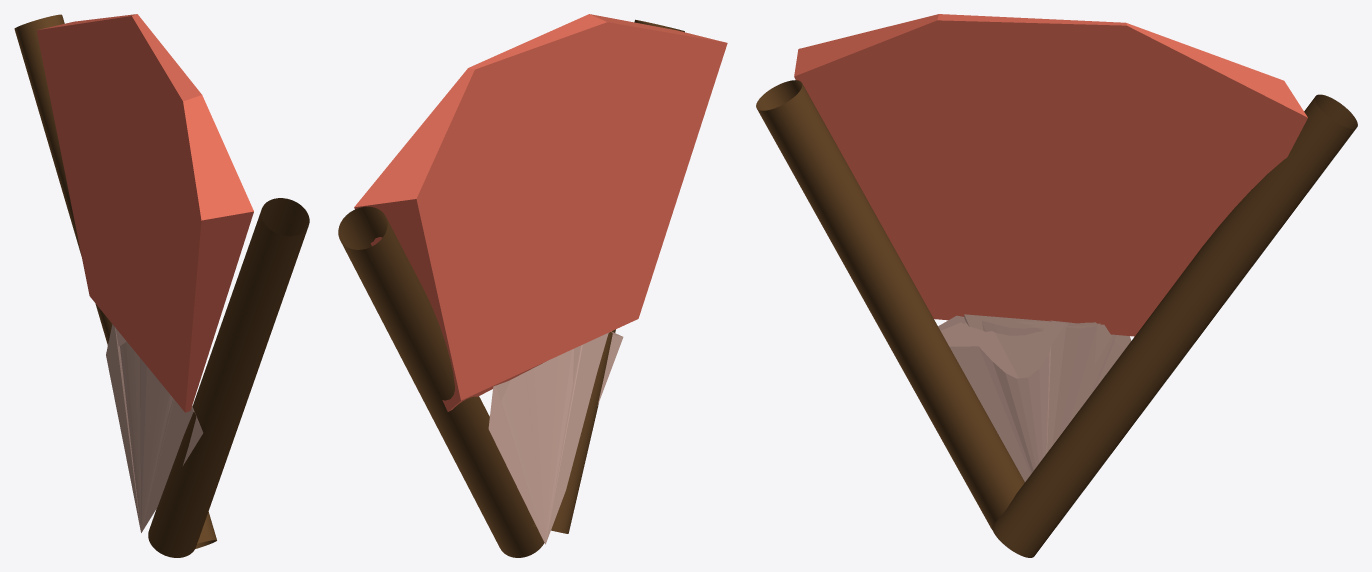
The model's file is handfan.fbx.
3 renders of one model, left to right at view 1: azimuth 30°, elevation 25°; view 2: azimuth 150°, elevation 25°; view 3: azimuth 270°, elevation 25°, orthographic. The views are drawn at different scales.
Visible parts, largest first — view 1: Cube, SurfCylinder, Cone, SurfCylinder.001; view 2: Cube, SurfCylinder.001, Cone, SurfCylinder; view 3: Cube, SurfCylinder.001, SurfCylinder, Cone.
Part boxes in pixels (box(x1,y1,x2,y2)): Cube: box(36, 14, 253, 412); SurfCylinder: box(148, 198, 309, 557); Cone: box(106, 324, 203, 532); SurfCylinder.001: box(14, 14, 216, 548); Cube: box(354, 14, 727, 411); SurfCylinder.001: box(338, 206, 544, 557); Cone: box(488, 331, 623, 544); SurfCylinder: box(533, 19, 684, 533); Cube: box(794, 14, 1307, 336); SurfCylinder.001: box(992, 94, 1357, 557); SurfCylinder: box(756, 80, 1024, 529); Cone: box(938, 314, 1131, 481).
Bounding box in the file's own units: 54.2 × 224 × 231.
